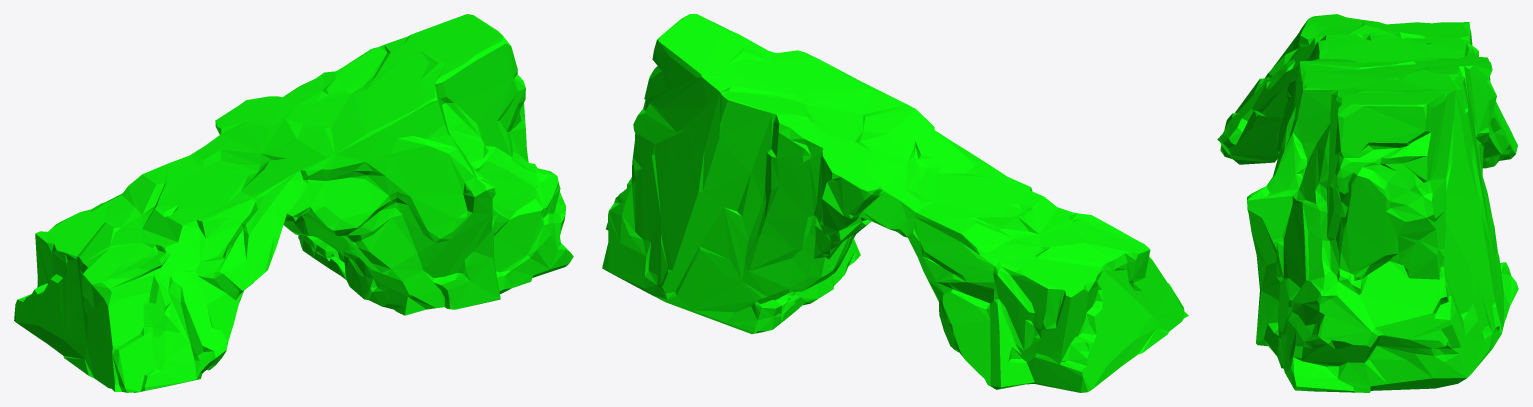
File: SM_Iceberg_Medium_E_Rock.fbx
The picture shows the model from 3 angles, left to right: view 1: azimuth 30°, elevation 25°; view 2: azimuth 150°, elevation 25°; view 3: azimuth 270°, elevation 25°; orthographic projection. The views are drawn at different scales.
Visible parts, largest first — view 1: SM_Iceberg_Medium_E_Rock; view 2: SM_Iceberg_Medium_E_Rock; view 3: SM_Iceberg_Medium_E_Rock.
Part boxes in pixels (<box>): SM_Iceberg_Medium_E_Rock: <box>14,14,573,392</box>; SM_Iceberg_Medium_E_Rock: <box>602,14,1188,392</box>; SM_Iceberg_Medium_E_Rock: <box>1217,14,1518,392</box>.
Bounding box in the file's own units: 20.46 × 9.34 × 9.27.
